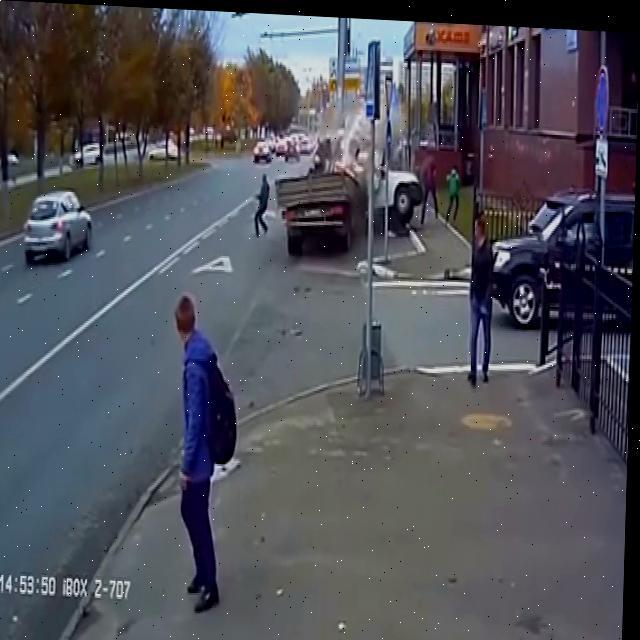multiple_accident: (253, 106, 442, 264)
normal: (462, 130, 640, 341), (0, 167, 109, 278)
